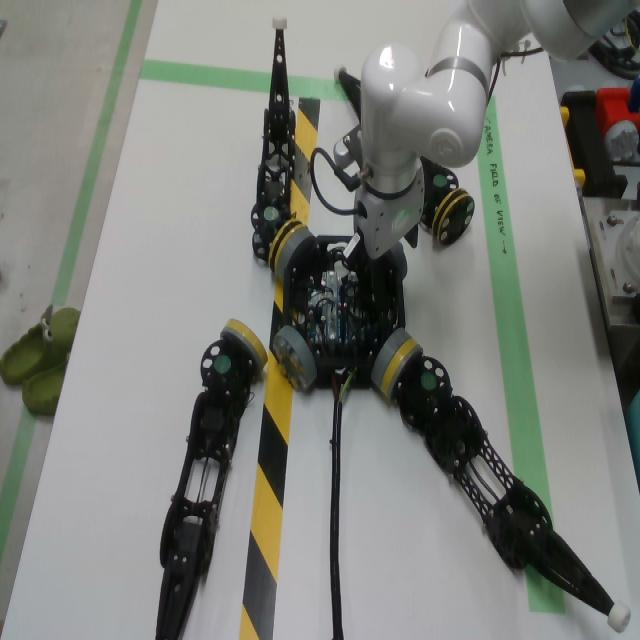body: (283, 236, 406, 391)
body_connector: (272, 325, 317, 393), (371, 328, 412, 387), (277, 227, 315, 277), (387, 243, 407, 279)
gripper: (342, 167, 425, 293)
leg: (381, 336, 632, 633), (155, 319, 268, 640), (250, 13, 305, 273), (421, 156, 475, 245), (334, 64, 361, 120)
leg_connector: (381, 339, 425, 400), (221, 319, 269, 373), (433, 188, 475, 247), (269, 219, 304, 273)
leg_marker: (214, 355, 231, 373), (422, 372, 435, 391), (264, 207, 278, 220), (433, 175, 446, 187)
